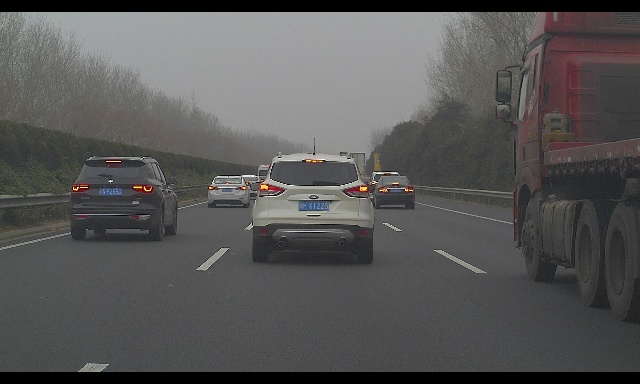car: (250, 152, 376, 264), (70, 156, 178, 241), (371, 175, 415, 209), (207, 176, 252, 208), (364, 172, 401, 202), (236, 175, 264, 199)
truck: (495, 12, 640, 321), (338, 152, 365, 186)
